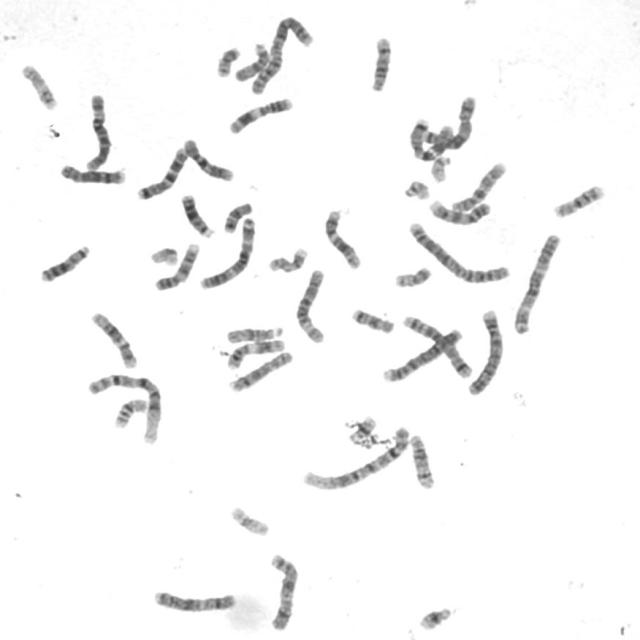A1: (296, 421, 414, 493), (84, 368, 164, 447)
A2: (404, 216, 514, 285), (246, 12, 316, 96)
A3: (509, 228, 564, 336), (195, 212, 259, 290)
B4: (379, 322, 465, 383), (463, 305, 506, 396)
B5: (399, 310, 475, 380), (417, 90, 478, 152)
C10: (447, 156, 509, 214), (180, 134, 236, 183)
C11: (224, 92, 295, 136), (222, 333, 287, 371)
C12: (86, 307, 140, 370), (320, 205, 363, 270)
C6: (291, 264, 329, 344), (80, 89, 112, 172)
C7: (132, 143, 189, 201), (406, 114, 455, 162)
C8: (224, 346, 295, 394), (55, 160, 128, 186)
C9: (150, 238, 202, 292), (425, 194, 493, 226)
D13: (36, 240, 93, 284), (177, 188, 217, 240)
D14: (406, 429, 438, 490), (366, 31, 394, 93)
D15: (230, 38, 272, 82), (222, 321, 285, 345)
E16: (549, 180, 607, 220), (109, 393, 150, 429)
E17: (16, 58, 60, 112), (264, 242, 310, 274)
E18: (347, 302, 397, 334), (219, 197, 255, 234)
F19: (226, 501, 272, 538), (146, 242, 180, 266)
F20: (390, 262, 435, 290), (212, 42, 242, 78)
G21: (414, 601, 454, 632), (344, 411, 378, 444)
G22: (426, 151, 454, 184), (400, 175, 432, 201)
X: (264, 548, 301, 632), (149, 585, 239, 613)
